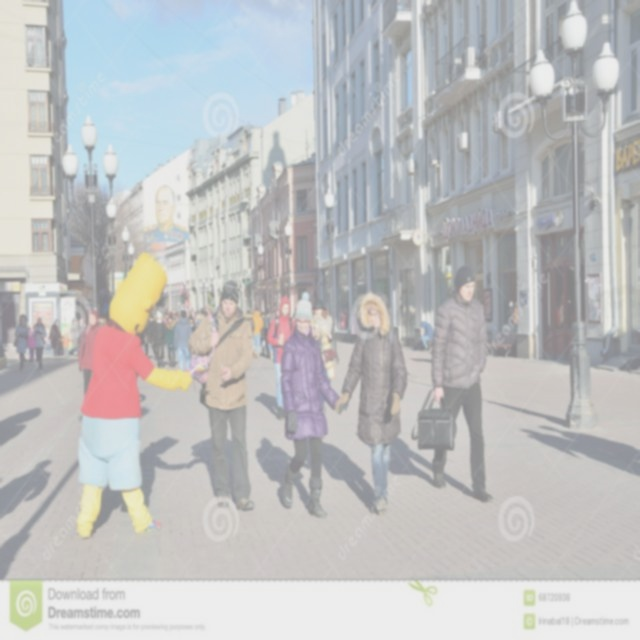pessoa: (69, 249, 196, 541), (332, 290, 410, 516), (187, 276, 257, 512), (280, 291, 350, 521), (430, 264, 495, 504), (116, 432, 237, 522), (516, 418, 639, 476), (389, 434, 475, 515), (0, 402, 54, 525), (253, 433, 315, 515), (320, 438, 372, 524), (267, 296, 296, 421), (142, 182, 194, 251), (310, 296, 338, 416), (78, 308, 102, 398), (174, 309, 192, 373), (12, 313, 29, 372), (152, 308, 167, 368), (32, 316, 48, 372), (253, 386, 280, 418), (164, 312, 178, 368), (44, 316, 63, 357), (147, 302, 182, 322), (186, 300, 220, 320), (74, 316, 88, 362), (252, 307, 264, 360), (152, 313, 163, 362), (138, 316, 149, 362), (261, 307, 270, 358), (420, 321, 434, 352), (242, 308, 255, 341), (70, 316, 80, 356), (26, 328, 36, 362), (60, 332, 73, 357), (98, 312, 110, 328), (188, 315, 198, 333), (267, 310, 276, 330), (274, 309, 280, 338), (320, 306, 330, 320), (290, 306, 297, 322), (28, 322, 34, 334), (310, 305, 316, 317)
